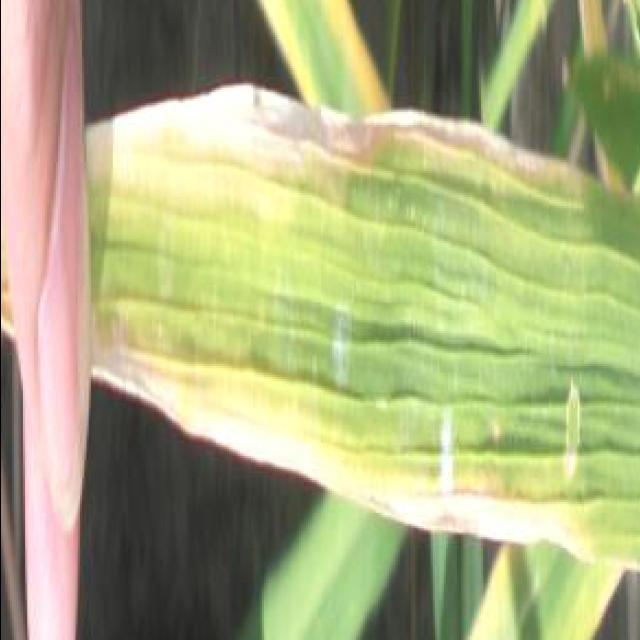Bacterial_Leaf_Blight: (87, 90, 640, 496)
